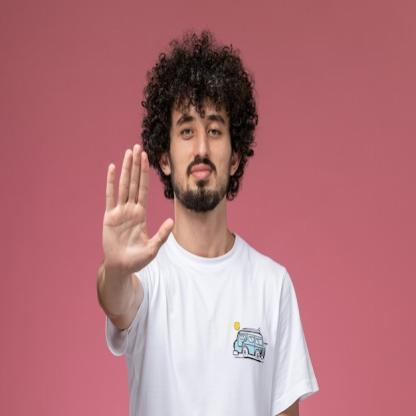stop: (101, 140, 177, 278)
